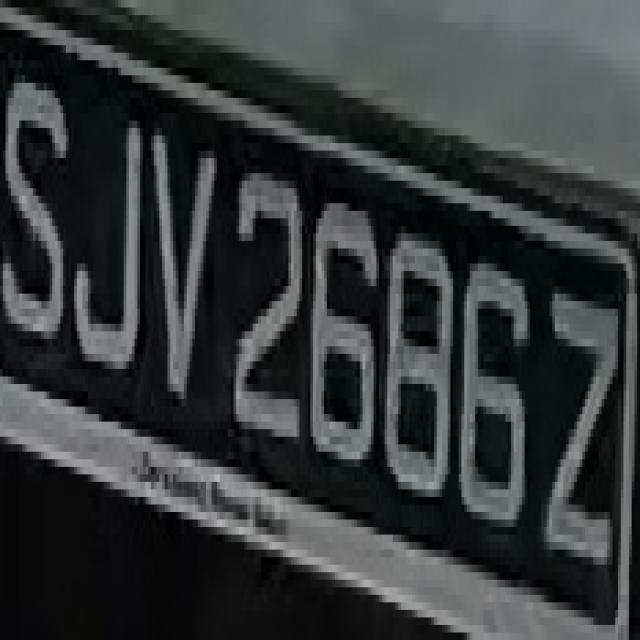2: (226, 143, 310, 489)
6: (302, 158, 379, 490), (456, 226, 530, 557)
8: (376, 181, 456, 527)
J: (66, 60, 154, 399)
S: (3, 53, 71, 361)
V: (146, 98, 220, 437)
Z: (538, 256, 624, 617)
